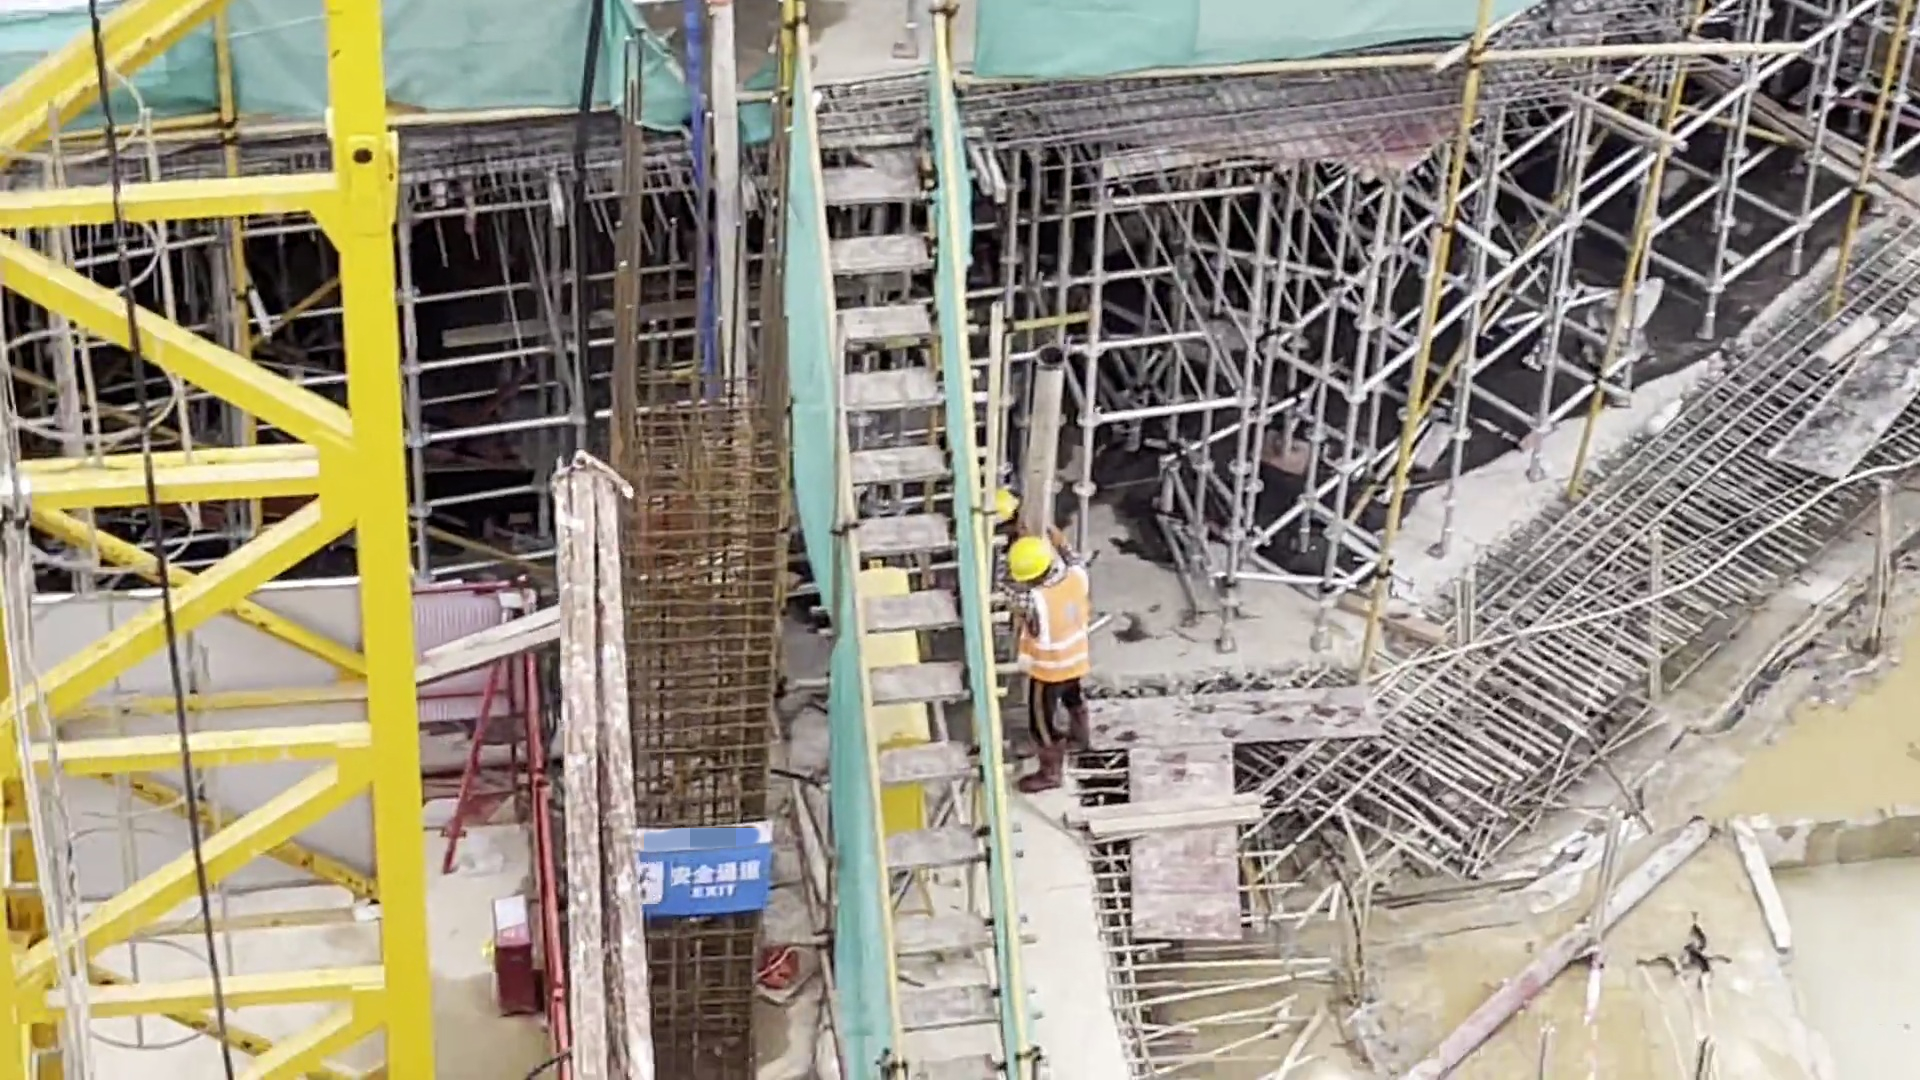ebox: (834, 567, 927, 850)
helmet: (1011, 537, 1054, 582)
person: (995, 532, 1096, 787)
vest: (1025, 576, 1095, 683)
